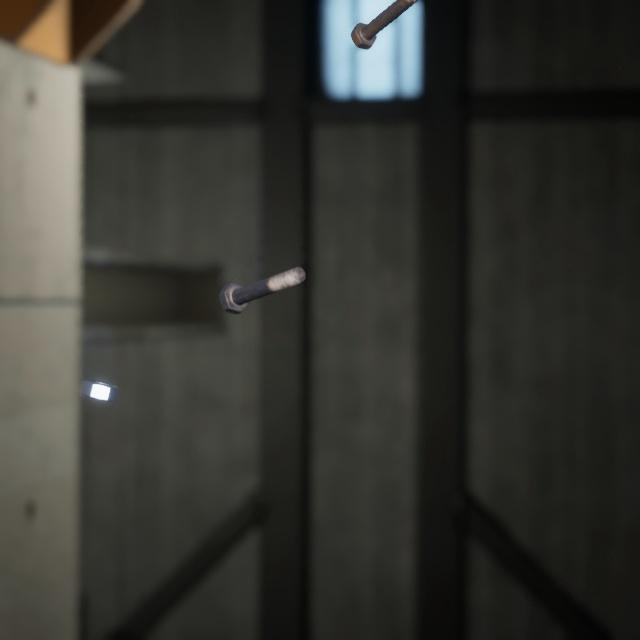bolt: (214, 244, 310, 301), (346, 0, 415, 47)
nut: (76, 356, 123, 386)
